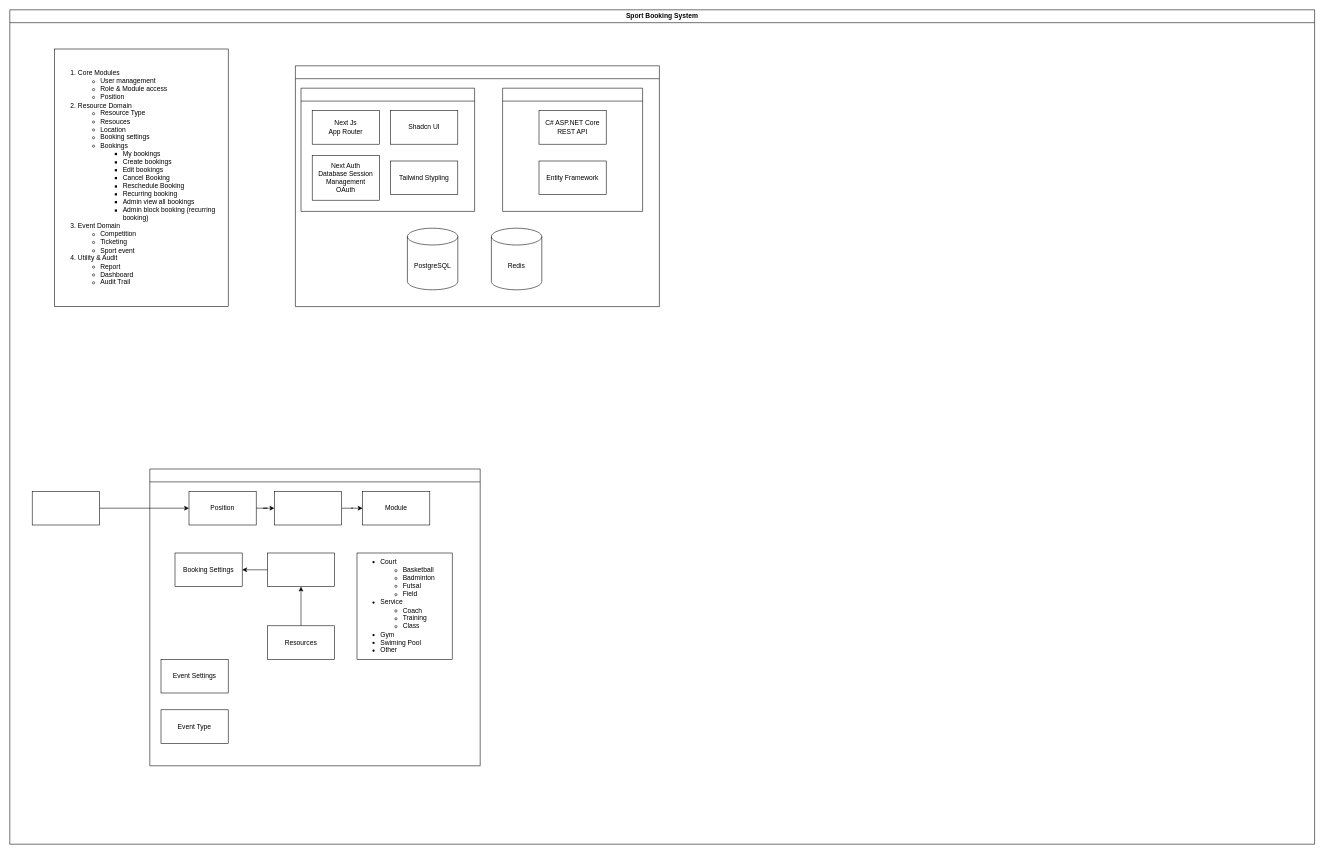
The diagram is 1324 pixels wide and 854 high, and some of its shapes have lost their labels. Here are the shapes that lost their labels. From the top down, the box of each, then its label:
(300, 88, 475, 211): Frontend
(502, 88, 643, 211): Backend
(295, 65, 659, 307): Tech Stack
(32, 491, 99, 525): User
(274, 491, 342, 525): Role
(267, 552, 335, 587): Resource Type
(149, 468, 480, 766): Entities
